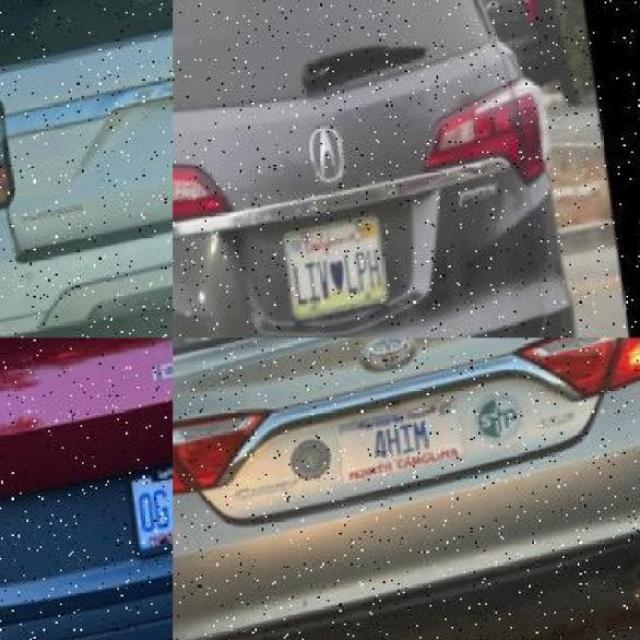license-plate: (332, 397, 476, 494), (273, 223, 402, 311), (110, 471, 180, 549), (145, 519, 188, 551)
